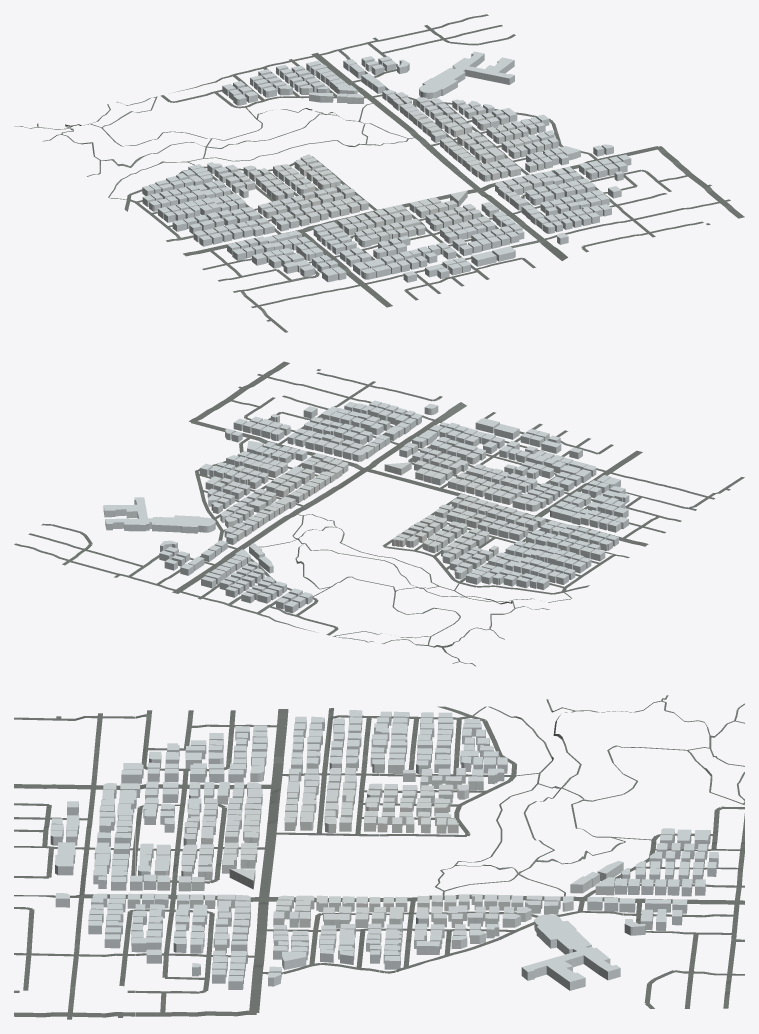
3 views of the same model, one above another, from view 1: azimuth 30°, elevation 25°; view 2: azimuth 150°, elevation 25°; view 3: azimuth 270°, elevation 25° (orthographic). The views are drawn at different scales.
Parts seen in each view (by area): view 1: osm-roads, osm-building-894821639; view 2: osm-roads, osm-building-894821639; view 3: osm-roads, osm-building-894821639.
Part boxes in pixels (x1,y1,x2,y2): osm-roads: [14, 14, 744, 332]; osm-building-894821639: [419, 51, 514, 99]; osm-roads: [14, 361, 744, 666]; osm-building-894821639: [103, 497, 215, 533]; osm-roads: [14, 695, 744, 1019]; osm-building-894821639: [521, 914, 620, 990].
Bounding box in the file's own units: 720 × 29.07 × 720.
Materials: 7 (1 with a texture image).
